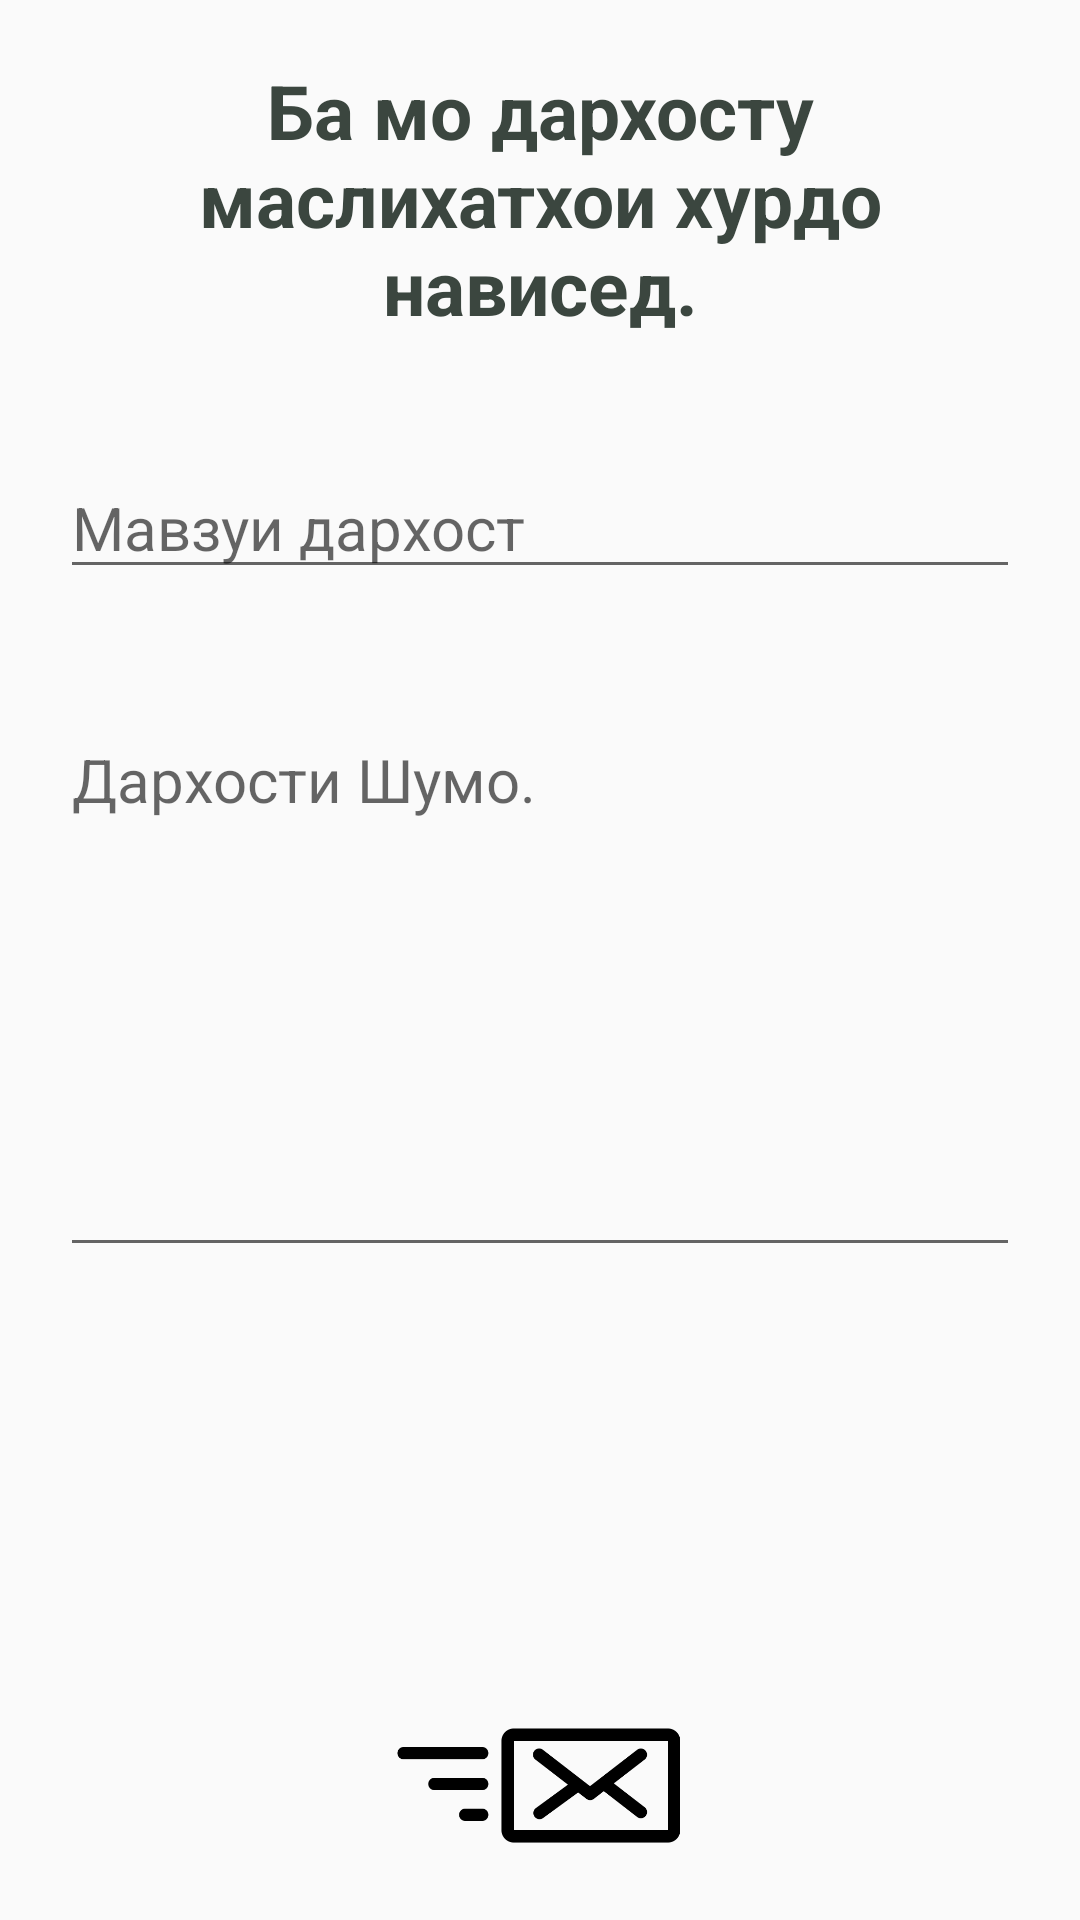

Screen size 1080x1920. Icon name, then its center in pixels as (x,y):
email: (538,1785)
